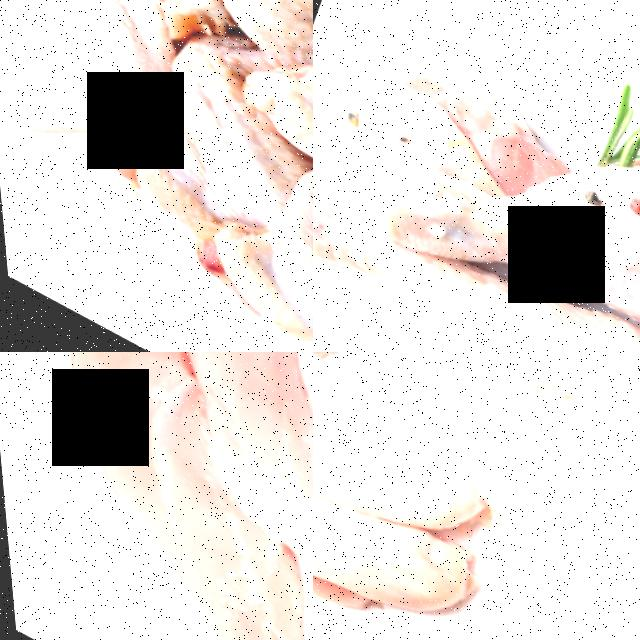chicken breast: (0, 352, 313, 640), (313, 352, 552, 640), (378, 352, 640, 508), (132, 352, 313, 496), (226, 352, 313, 640)
chicken thigh: (347, 0, 640, 352), (313, 159, 640, 352)
chicken wing: (0, 0, 224, 196), (228, 90, 313, 352)
